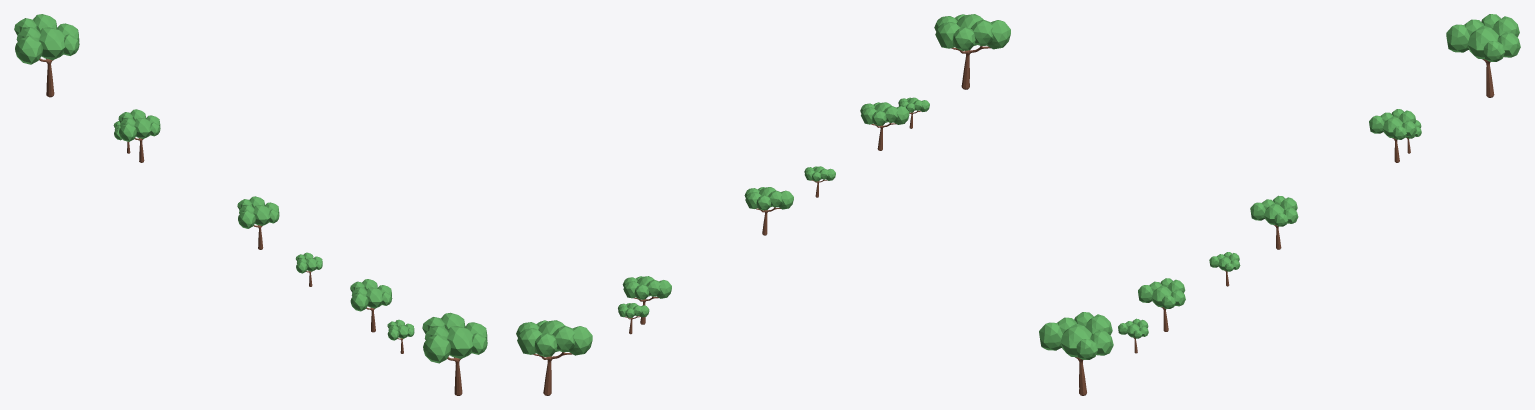
The picture shows the model from 3 angles, left to right: view 1: azimuth 30°, elevation 25°; view 2: azimuth 150°, elevation 25°; view 3: azimuth 330°, elevation 25°; orthographic projection. The views are drawn at different scales.
Parts seen in each view (by area): view 1: Tree.004, Tree, Tree.003, Tree.002, Tree.001, Tree.006, Tree.005; view 2: Tree.004, Tree, Tree.002, Tree.001, Tree.003, Tree.007, Tree.005; view 3: Tree.004, Tree, Tree.001, Tree.002, Tree.003, Tree.006, Tree.005.
Part boxes in pixels (<box>): Tree.004: <box>14,14,79,97</box>; Tree: <box>422,312,487,395</box>; Tree.003: <box>118,109,160,162</box>; Tree.002: <box>237,196,279,249</box>; Tree.001: <box>350,279,392,332</box>; Tree.006: <box>387,319,414,353</box>; Tree.005: <box>295,252,322,286</box>; Tree.004: <box>516,320,592,395</box>; Tree: <box>934,14,1010,89</box>; Tree.002: <box>744,187,793,235</box>; Tree.001: <box>860,102,909,150</box>; Tree.003: <box>622,276,671,324</box>; Tree.007: <box>618,303,649,334</box>; Tree.005: <box>804,166,835,197</box>; Tree.004: <box>1446,14,1520,97</box>; Tree: <box>1039,312,1113,395</box>; Tree.001: <box>1138,278,1185,331</box>; Tree.002: <box>1250,195,1298,249</box>; Tree.003: <box>1369,109,1416,162</box>; Tree.006: <box>1118,318,1148,353</box>; Tree.005: <box>1209,252,1240,286</box>.
Size of the model in its own units: 29.97 by 31.58 by 349.
